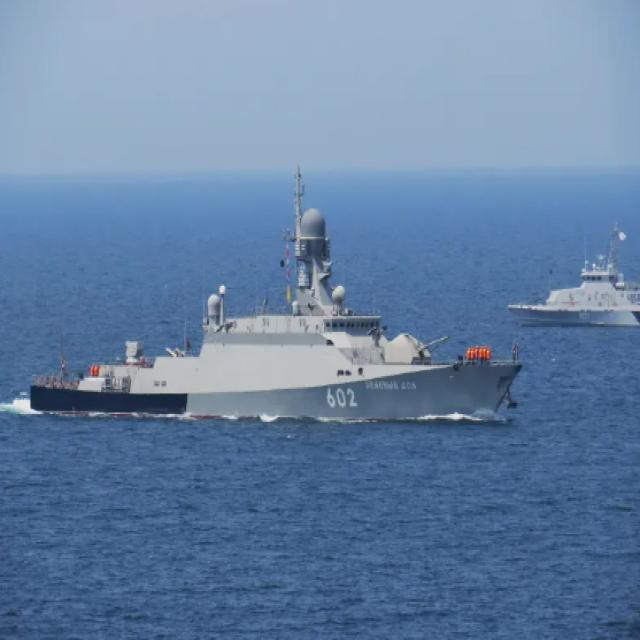navalvessels: (35, 143, 523, 448), (513, 203, 640, 327)
